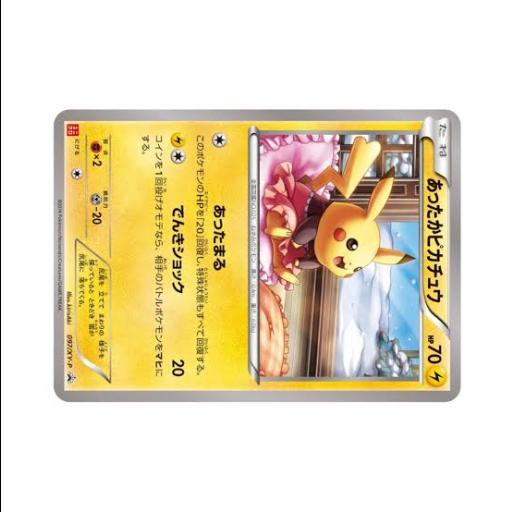Pikachu: (262, 137, 416, 286)
